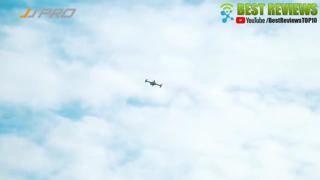UAV: (145, 79, 162, 88)
